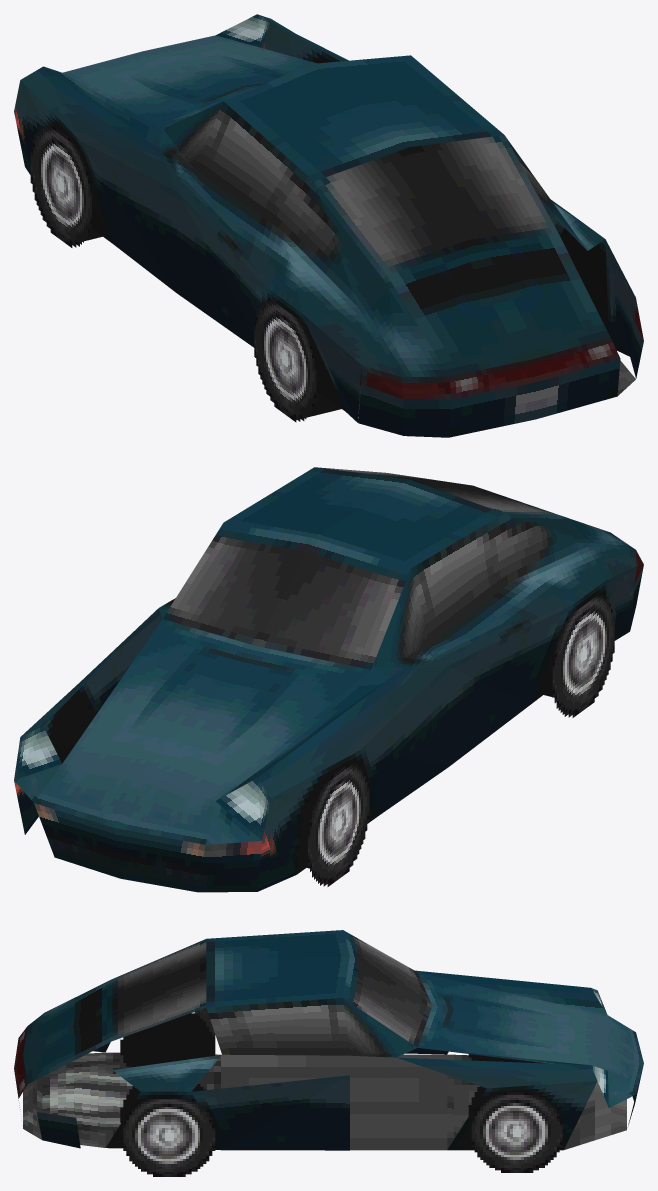
File: car-p911.glb
3 views of the same model, one above another, from view 1: azimuth 30°, elevation 25°; view 2: azimuth 150°, elevation 25°; view 3: azimuth 270°, elevation 25° (orthographic). The views are drawn at different scales.
Visible parts, largest first — view 1: car-p911; view 2: car-p911; view 3: car-p911.
Boxes of the visible parts, <box> form: car-p911: <box>14,14,643,437</box>; car-p911: <box>14,467,643,892</box>; car-p911: <box>14,930,643,1176</box>.
Size of the model in its own units: 1.8 by 1.28 by 4.35.
Materials: 43 (43 with a texture image).
